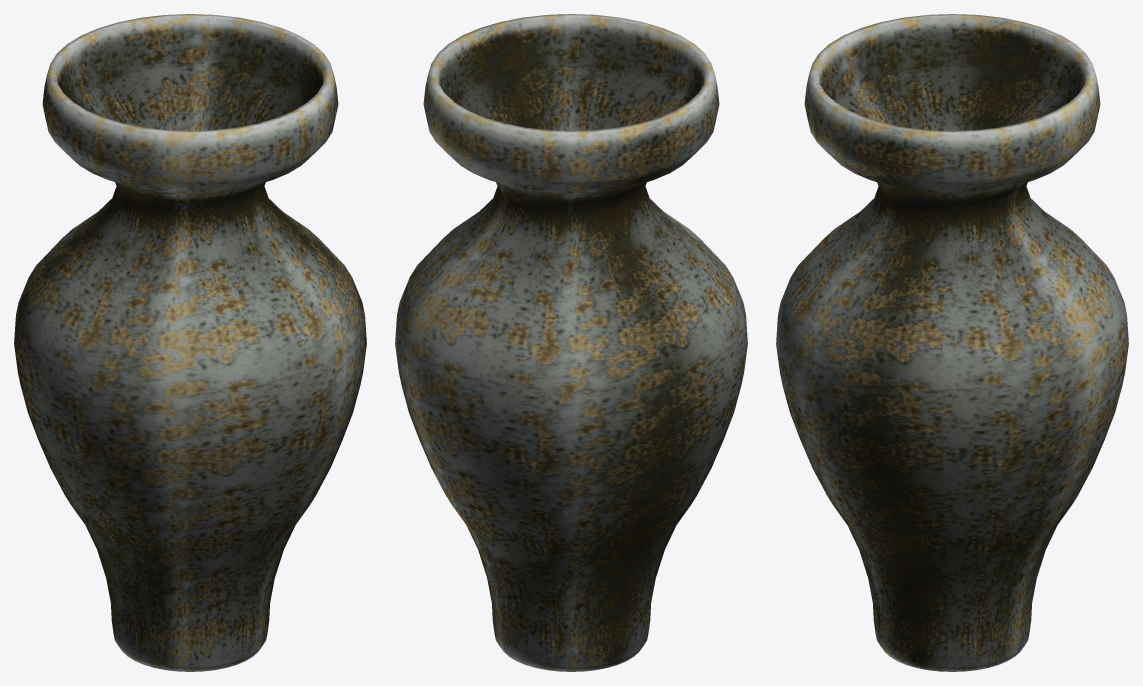
File: mm7_deco_dec97.glb
3 views of the same model, side by side, from view 1: azimuth 30°, elevation 25°; view 2: azimuth 150°, elevation 25°; view 3: azimuth 270°, elevation 25° (orthographic).
Parts seen in each view (by area): view 1: Base; view 2: Base; view 3: Base.
Boxes of the visible parts, <box> form: Base: <box>14,14,366,671</box>; Base: <box>395,14,747,671</box>; Base: <box>776,14,1128,671</box>.
Size of the model in its own units: 0.4553 by 0.8078 by 0.4553.
Materials: 1 (1 with a texture image).
